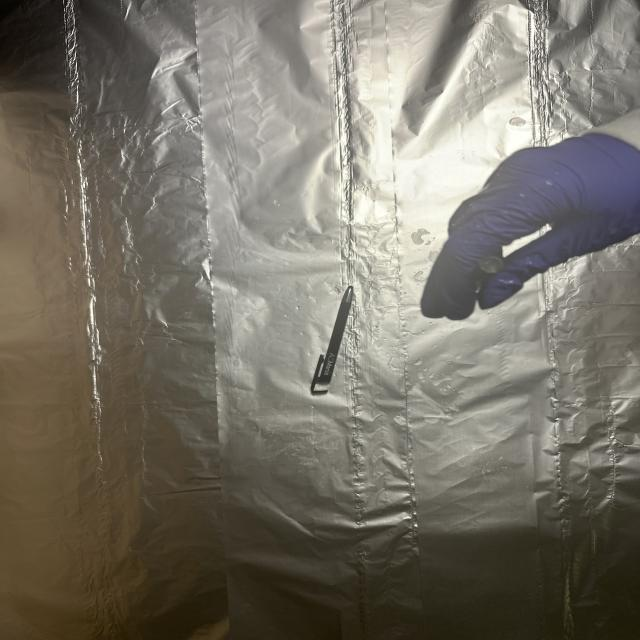gloves_contaminated: (421, 132, 640, 320)
